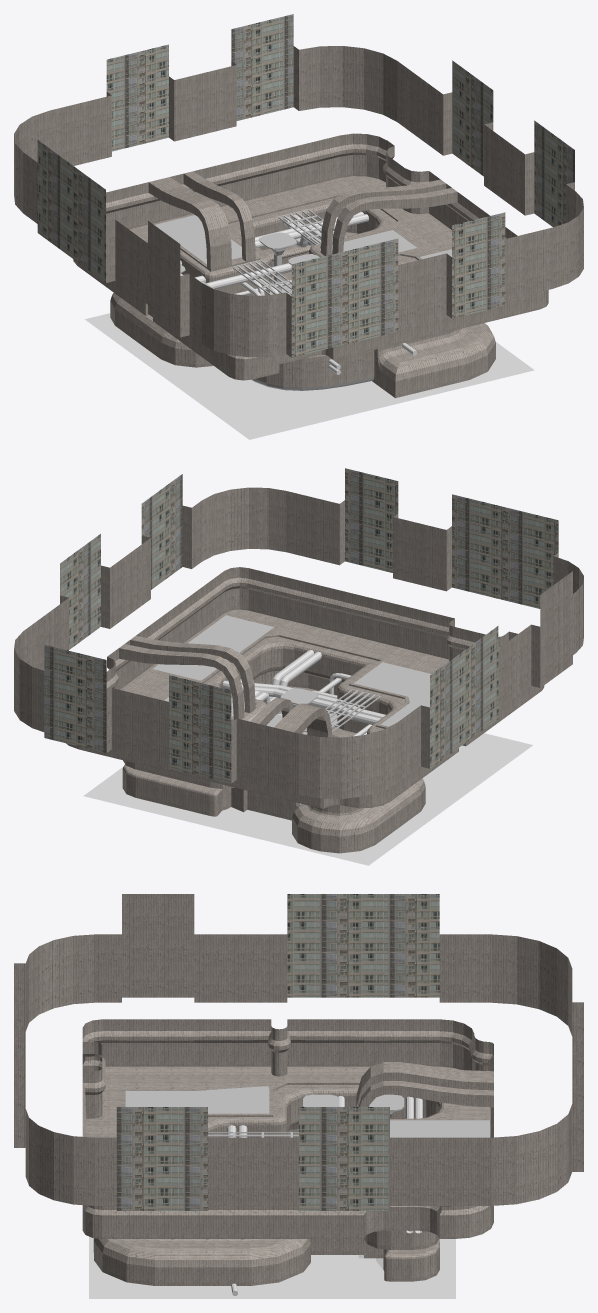
Rendered from DRAIN 2.fbx.
The picture shows the model from 3 angles, top to bottom: view 1: azimuth 30°, elevation 25°; view 2: azimuth 150°, elevation 25°; view 3: azimuth 270°, elevation 25°; orthographic projection. The views are drawn at different scales.
Visible parts, largest first — view 1: CONCRETE WALLS FLOOR, ACID, Grass, PIPES, CONCRETE GRID, Mushroom.001; view 2: CONCRETE WALLS FLOOR, ACID, Grass, PIPES, CONCRETE GRID, Mushroom.001; view 3: CONCRETE WALLS FLOOR, ACID, Grass, Mushroom.001, PIPES.
Part boxes in pixels (x1=…): CONCRETE WALLS FLOOR: x1=14, y1=14, x2=583, y2=398; ACID: x1=85, y1=313, x2=534, y2=439; Grass: x1=154, y1=215, x2=451, y2=263; PIPES: x1=180, y1=211, x2=416, y2=374; CONCRETE GRID: x1=232, y1=209, x2=346, y2=294; Mushroom.001: x1=180, y1=232, x2=319, y2=293; CONCRETE WALLS FLOOR: x1=14, y1=468, x2=583, y2=853; ACID: x1=83, y1=713, x2=532, y2=865; Grass: x1=153, y1=615, x2=431, y2=726; PIPES: x1=222, y1=649, x2=385, y2=806; CONCRETE GRID: x1=302, y1=689, x2=380, y2=734; Mushroom.001: x1=248, y1=688, x2=318, y2=734; CONCRETE WALLS FLOOR: x1=14, y1=894, x2=583, y2=1285; ACID: x1=89, y1=1236, x2=455, y2=1298; Grass: x1=125, y1=1086, x2=489, y2=1137; Mushroom.001: x1=303, y1=1094, x2=404, y2=1118; PIPES: x1=227, y1=1096, x2=422, y2=1295.
Size of the model in its own units: 129 by 62.87 by 146.
